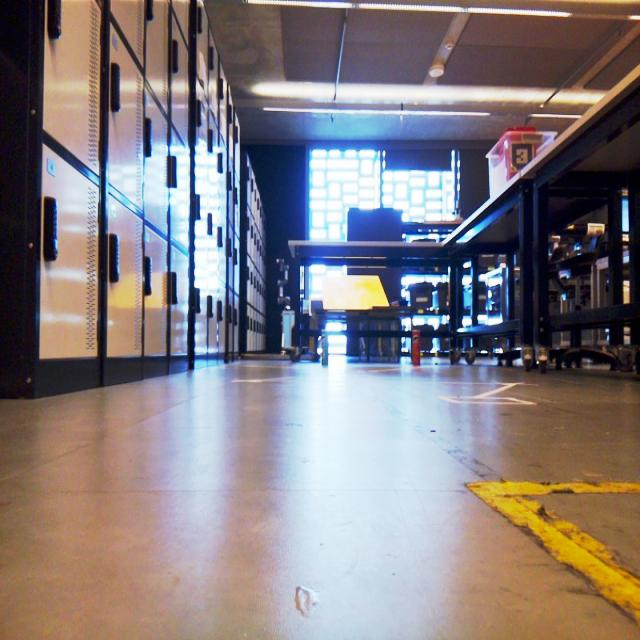greenpringles: (316, 324, 336, 369)
redpringles: (404, 320, 428, 369)
